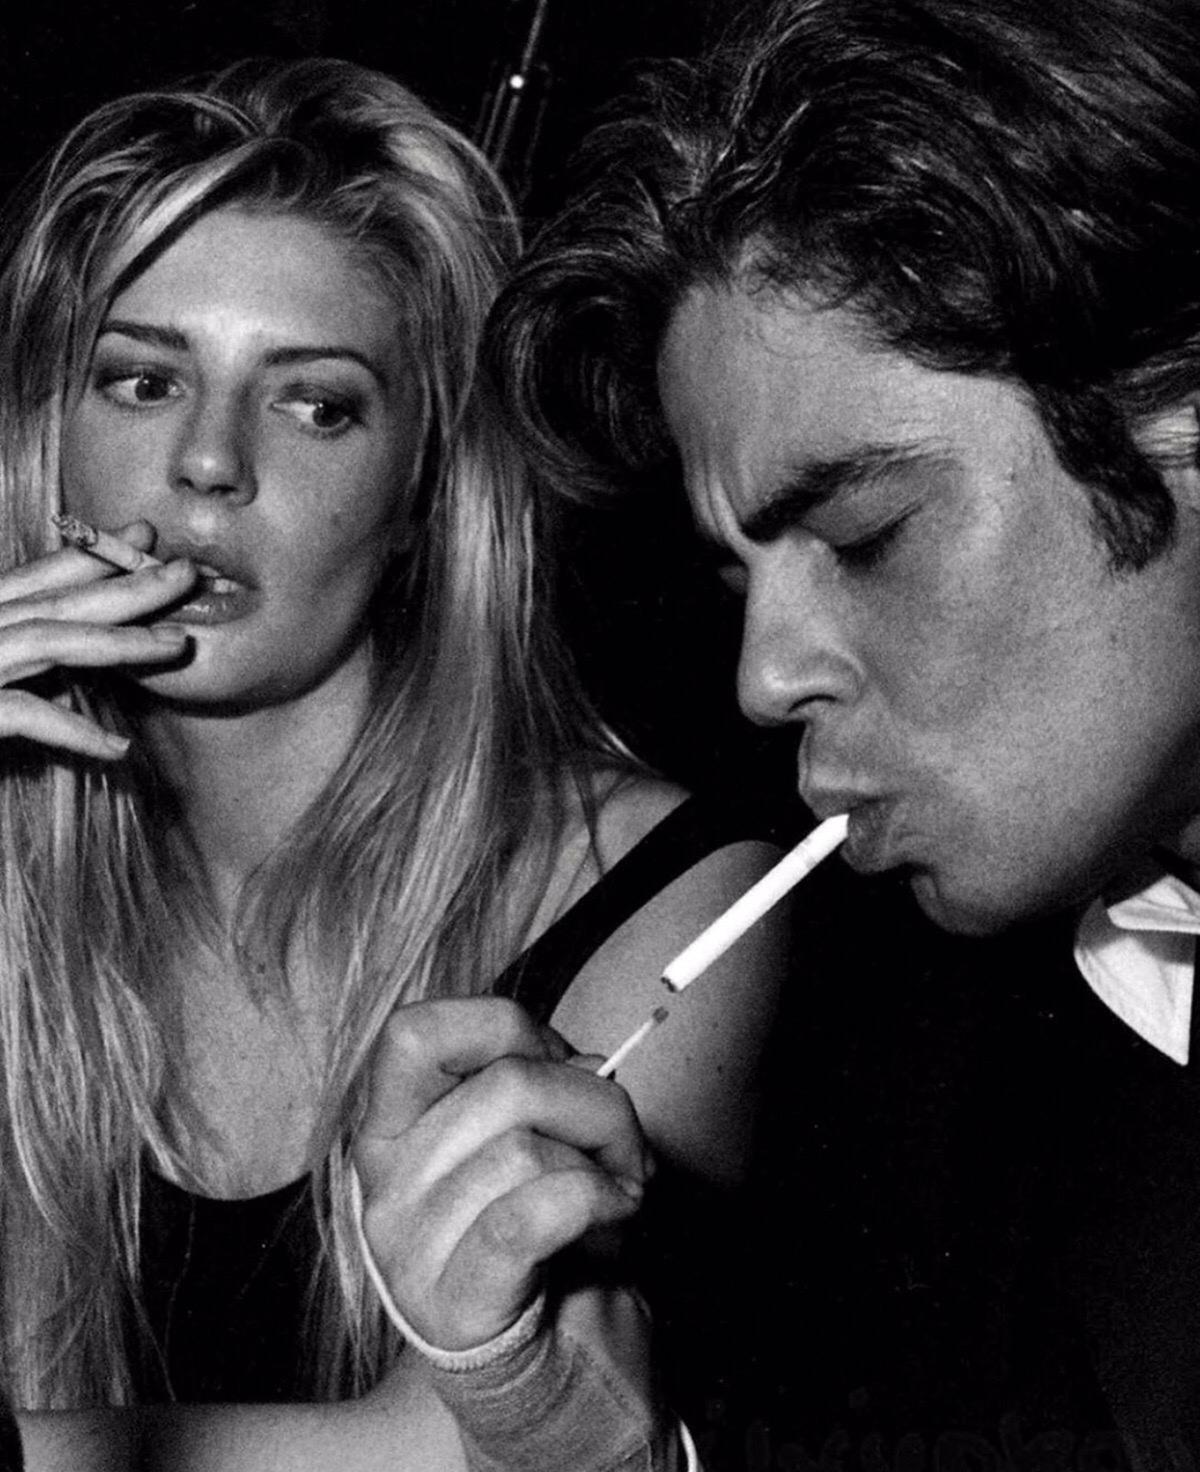cigarette: (661, 813, 848, 992), (53, 511, 164, 573)
